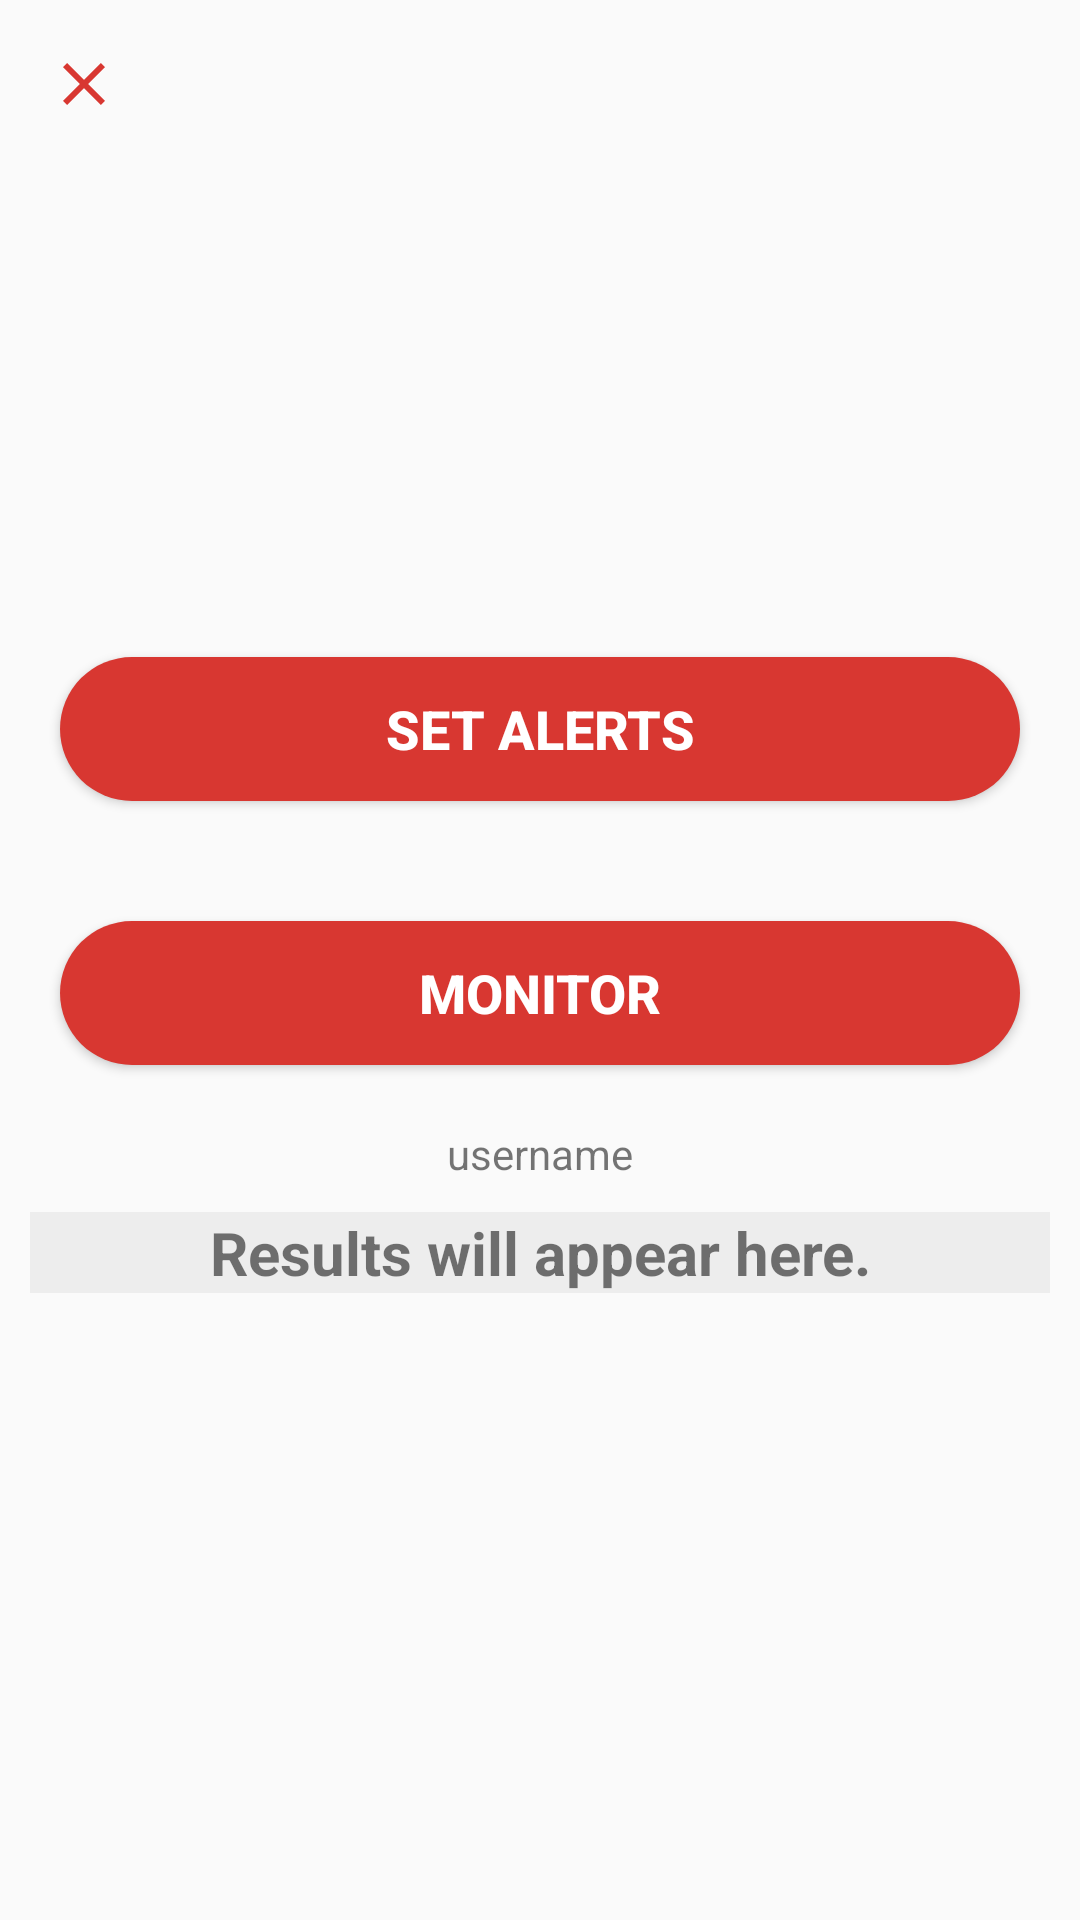

Icon click points for this 1080*1920 phone screenshot, format (x,y):
close: (84,84)
